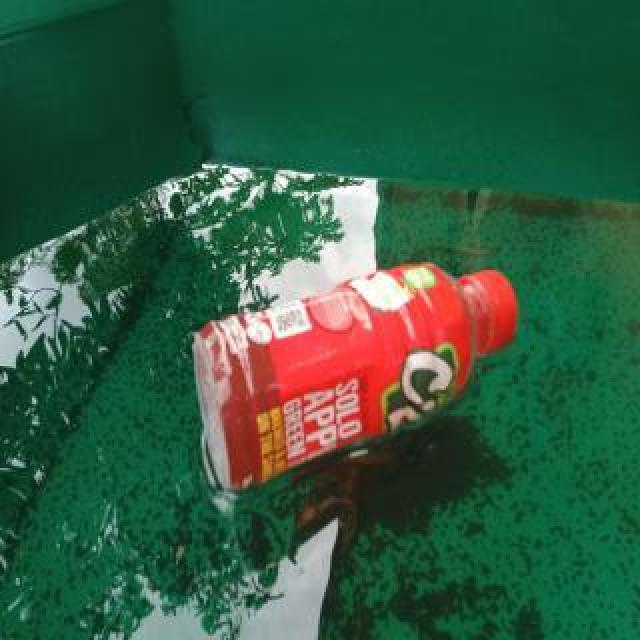bottle: (194, 265, 520, 493)
